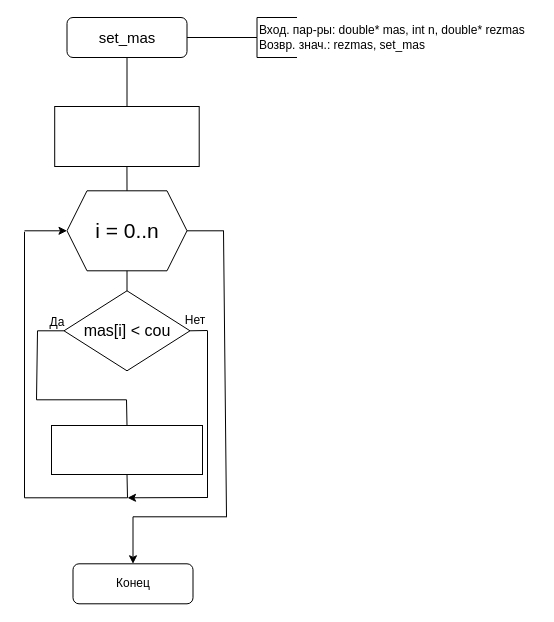
Some shapes in this 554 by 622 pixel diagram are drawn without their labels. The centre of each missing label's shape, as x and y in pixels:
"cou = count_in_bounds(mas, n) set_mas = 0" belongs at point (126, 136).
"rezmas[set_mas] = mas[i] set_mas = set_mas + 1" belongs at point (126, 449).
